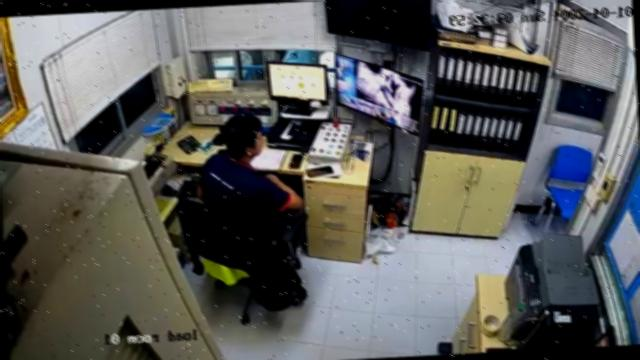Head: (217, 112, 266, 160)
People: (195, 115, 305, 240)
Phone: (302, 164, 335, 178), (285, 152, 306, 169)
